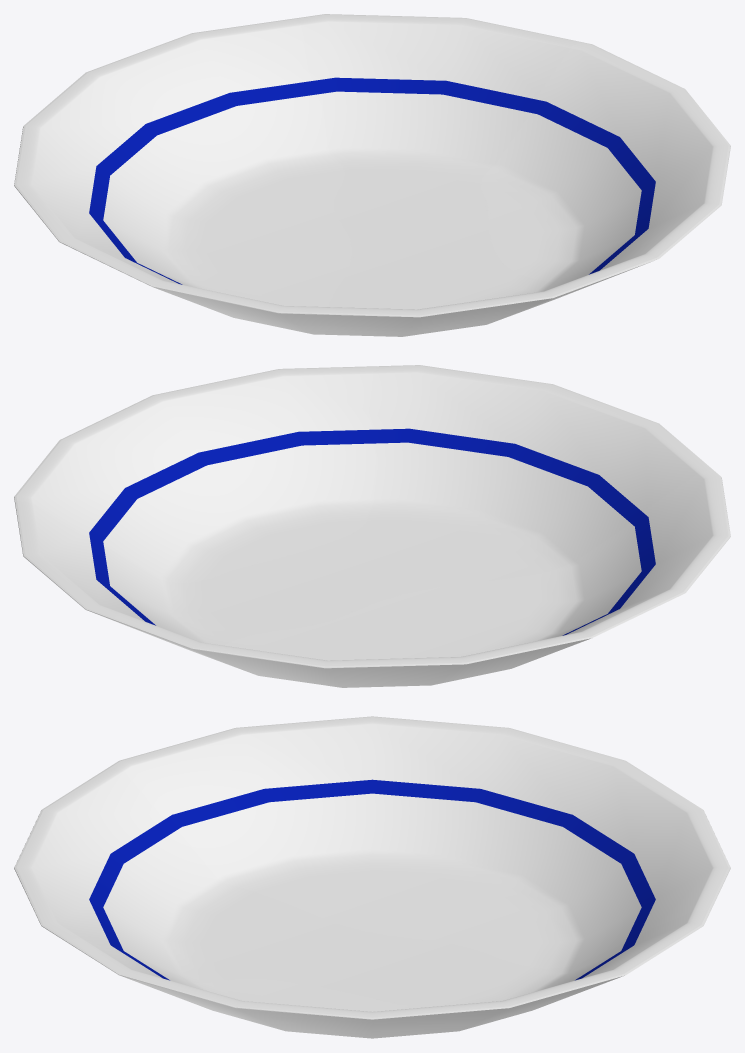
Rendered from flat_plate.obj.
3 renders of one model, top to bottom at view 1: azimuth 30°, elevation 25°; view 2: azimuth 150°, elevation 25°; view 3: azimuth 270°, elevation 25°, orthographic.
Parts seen in each view (by area): view 1: flat_plate; view 2: flat_plate; view 3: flat_plate.
Part boxes in pixels (x1,y1,x2,y2): flat_plate: (14, 14, 730, 336); flat_plate: (14, 365, 730, 687); flat_plate: (14, 716, 730, 1038).
Size of the model in its own units: 0.1594 by 0.02 by 0.1594.
Materials: 2 (2 with a texture image).
